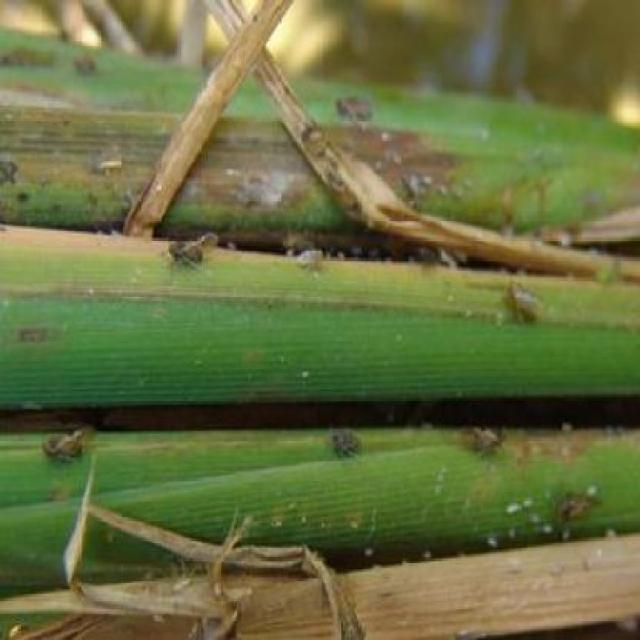brown-planthopper: (163, 230, 220, 272), (503, 285, 542, 329), (45, 429, 92, 465), (332, 88, 376, 123), (556, 492, 596, 520), (331, 429, 362, 462), (474, 425, 504, 457), (296, 247, 326, 276)
